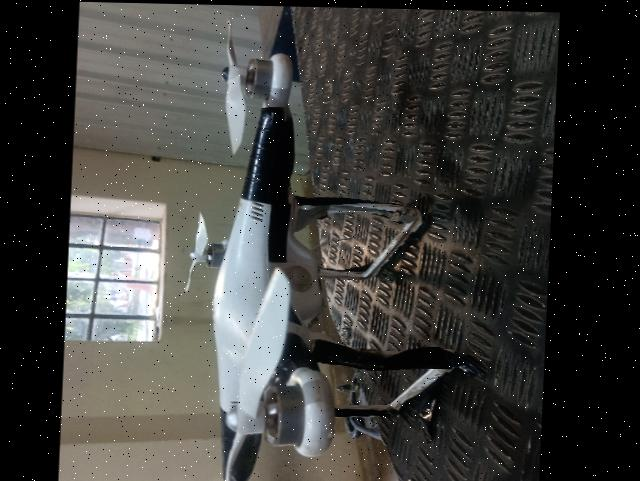drone: (172, 36, 472, 481)
